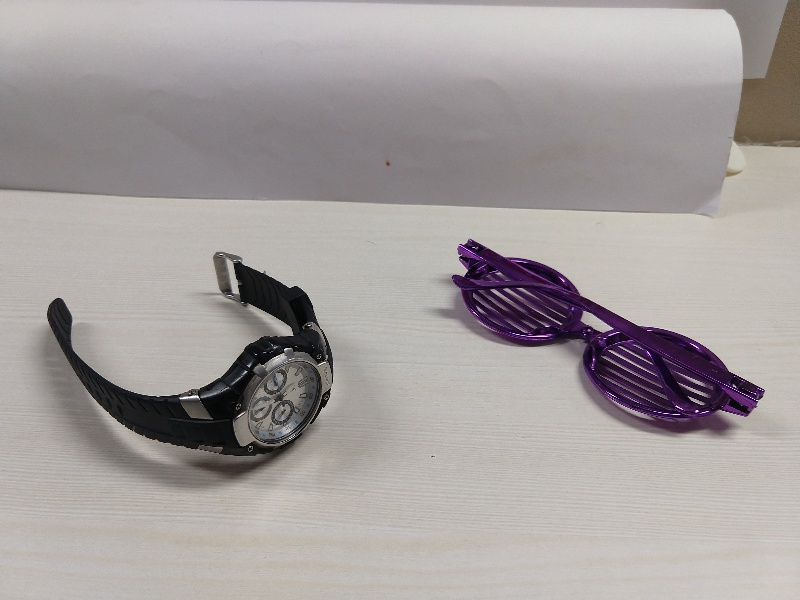shades: (451, 234, 764, 424)
watch: (40, 245, 337, 467)
